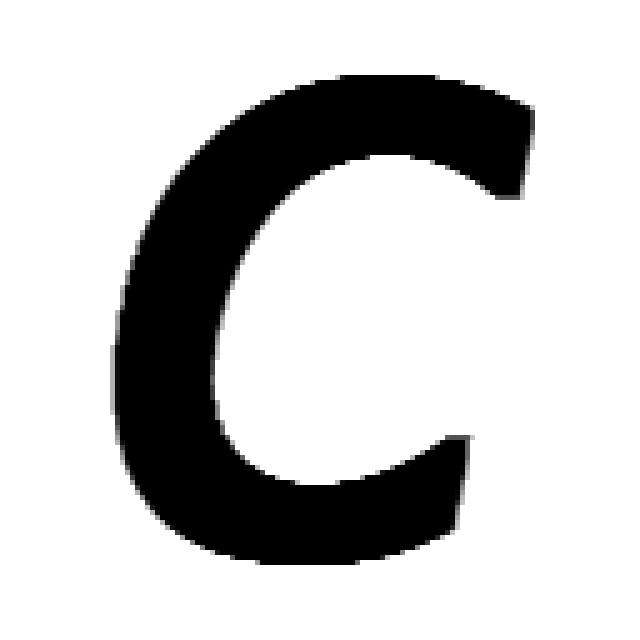C: (115, 75, 535, 565)
